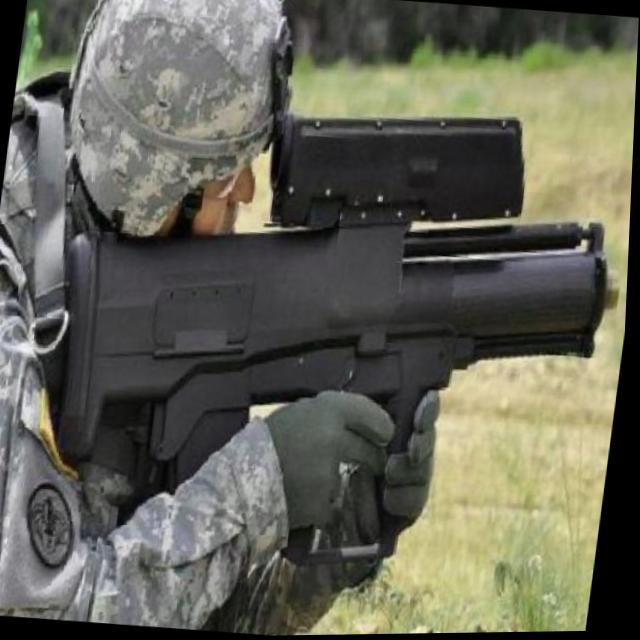weapon: (23, 74, 637, 600)
